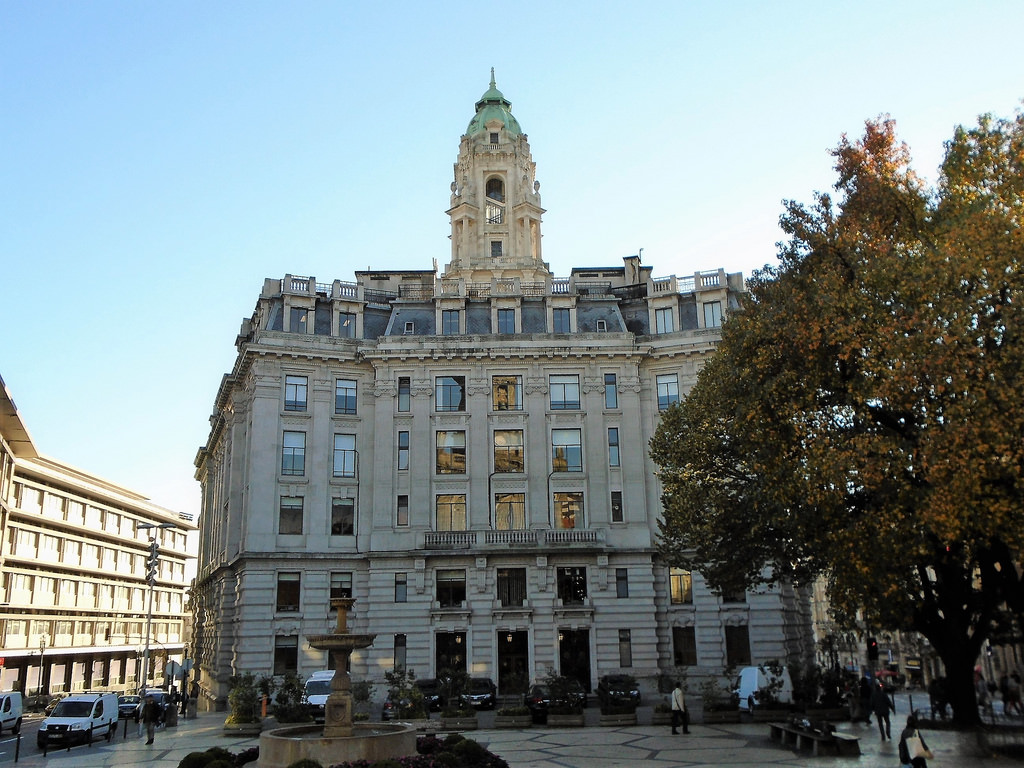camara: (182, 63, 817, 713)
